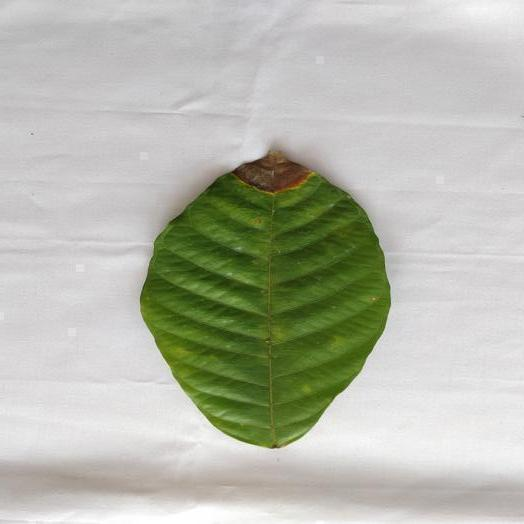Potassium: (141, 152, 389, 447)
